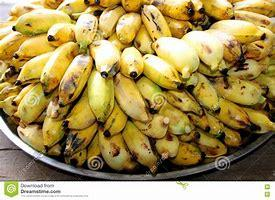banana: (0, 3, 275, 181), (15, 54, 73, 133), (158, 100, 238, 145), (155, 28, 205, 75), (134, 6, 177, 48), (114, 77, 153, 118), (92, 31, 122, 79), (30, 16, 73, 49), (59, 55, 90, 97), (156, 4, 199, 34), (217, 14, 265, 39), (90, 70, 114, 113)
